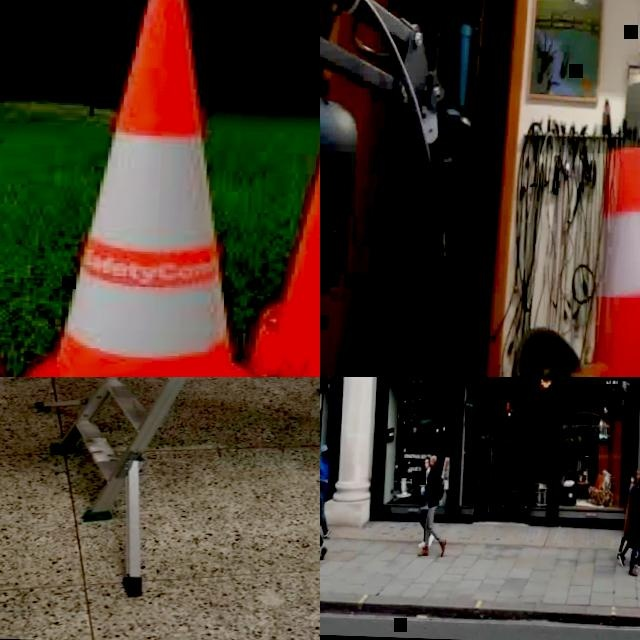NO-Hardhat: (632, 465, 640, 476), (320, 444, 328, 452), (431, 454, 438, 461), (635, 475, 640, 484), (425, 454, 430, 461)
NO-Mask: (429, 461, 434, 468), (425, 463, 429, 469)
NO-Safety Vest: (426, 473, 441, 507), (625, 479, 635, 527), (632, 491, 640, 538), (629, 490, 637, 533), (320, 459, 330, 493), (421, 471, 429, 509)
Person: (557, 107, 640, 377), (417, 454, 451, 558), (617, 464, 640, 566), (619, 475, 640, 570), (419, 453, 438, 549), (320, 442, 334, 537), (320, 452, 331, 561), (629, 475, 640, 578)
Safety Cone: (7, 0, 289, 377), (249, 13, 320, 377), (562, 139, 640, 377)
